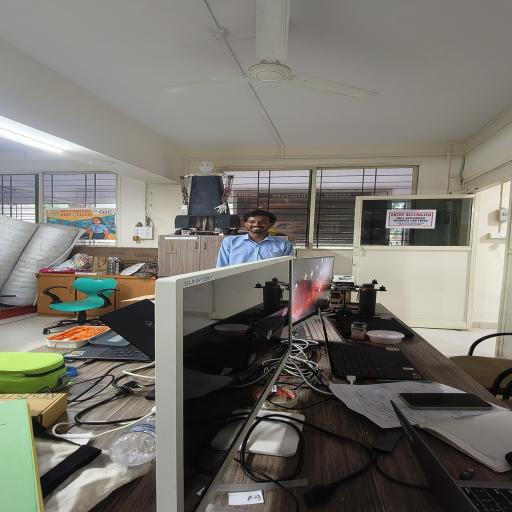survivor: (216, 210, 295, 268)
